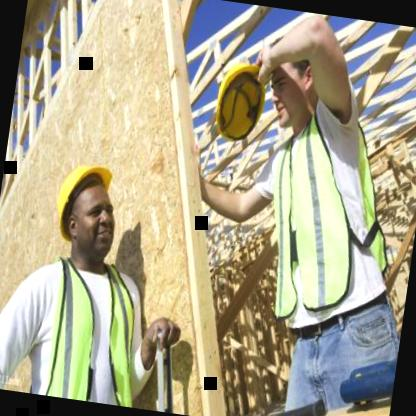helmet: (47, 137, 133, 276)
